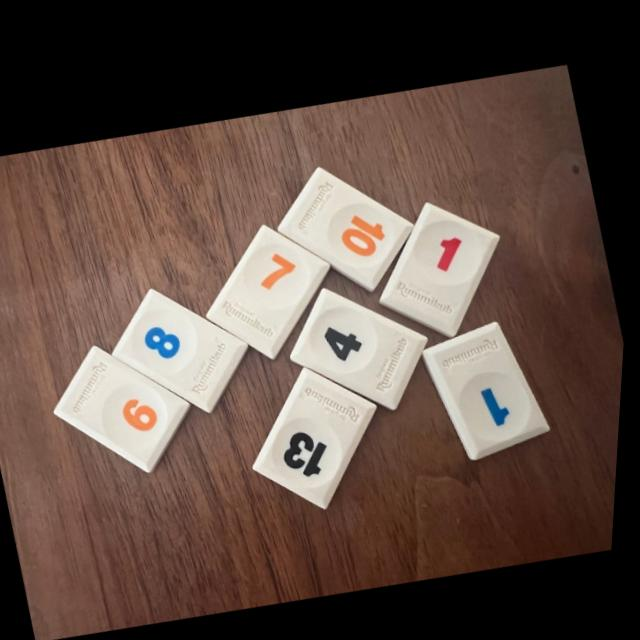black_13: (258, 360, 381, 500)
black_4: (294, 280, 430, 400)
blue_1: (426, 310, 554, 448)
blue_8: (117, 285, 252, 407)
orange_10: (280, 160, 416, 282)
orange_7: (210, 219, 331, 351)
orange_9: (59, 343, 195, 468)
red_1: (383, 193, 501, 326)
